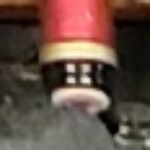bottle: (22, 19, 139, 137)
